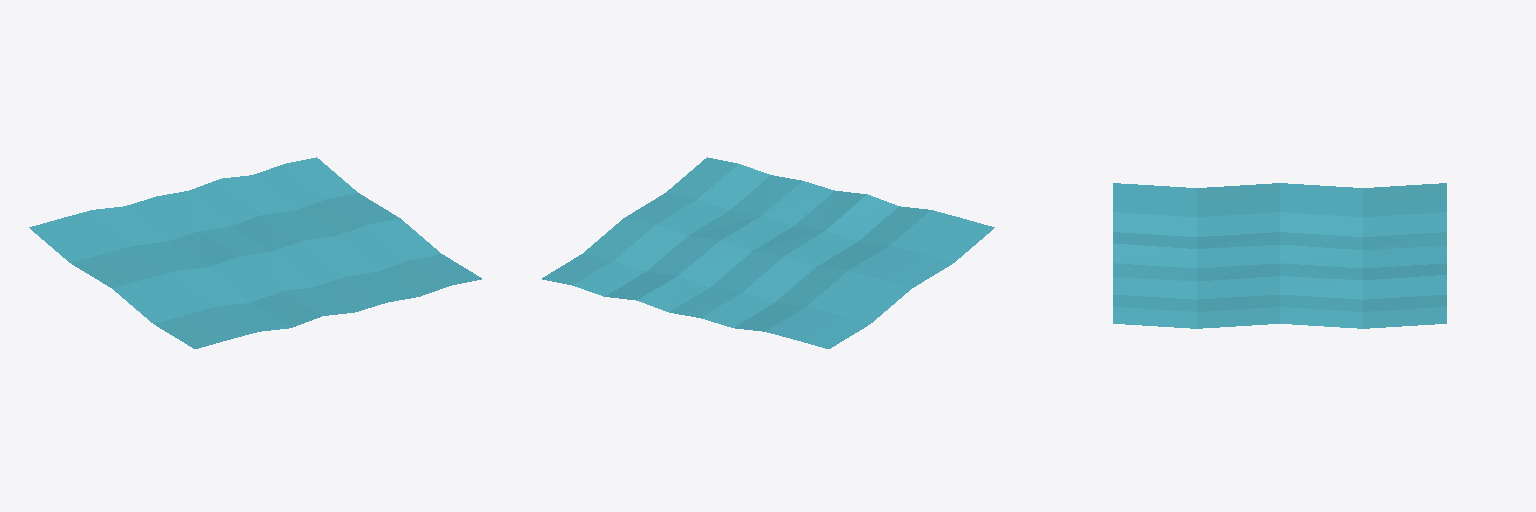
File: water.obj
3 renders of one model, left to right at view 1: azimuth 30°, elevation 25°; view 2: azimuth 150°, elevation 25°; view 3: azimuth 270°, elevation 25°, orthographic.
Parts seen in each view (by area): view 1: Plane; view 2: Plane; view 3: Plane.
Part boxes in pixels (x1,y1,x2,y2): Plane: (29,157,481,348); Plane: (542,157,994,348); Plane: (1113,183,1446,328).
Bounding box in the file's own units: 3.48 × 0.1078 × 3.48.